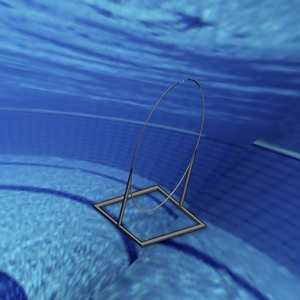circle: (94, 76, 208, 247)
